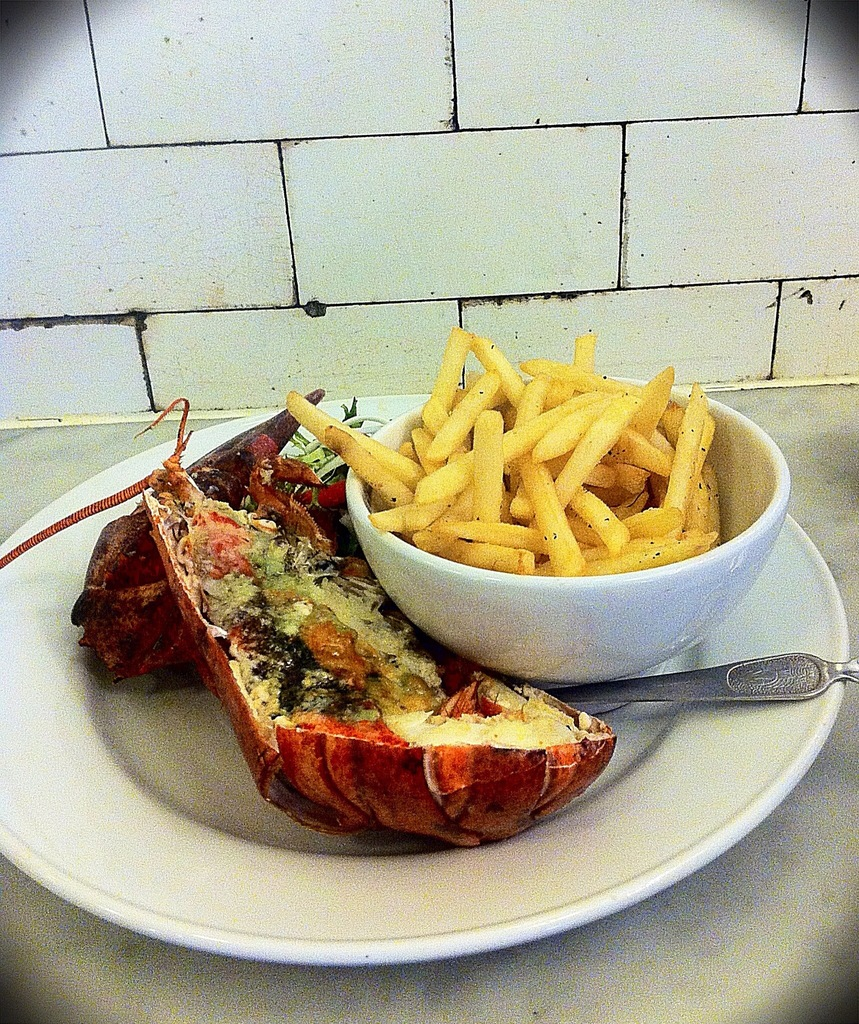French fries: (341, 325, 734, 569)
